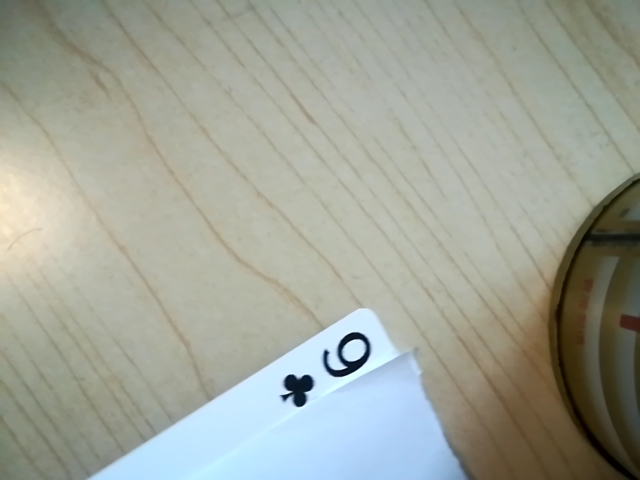mh 9: (269, 325, 391, 406)
